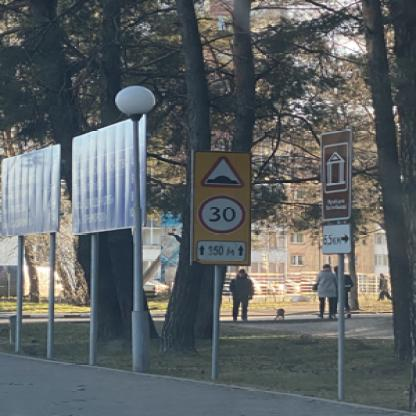speedlimit: (196, 193, 244, 233)
